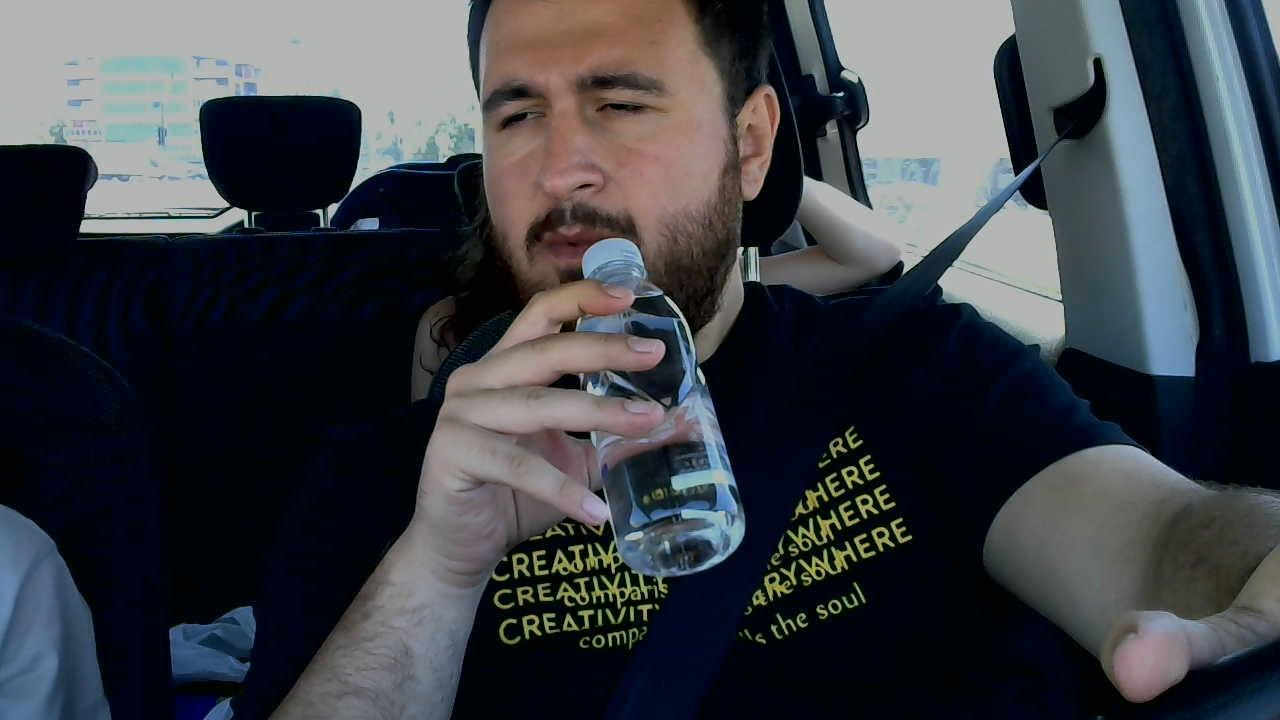Drinking: (441, 0, 781, 547)
